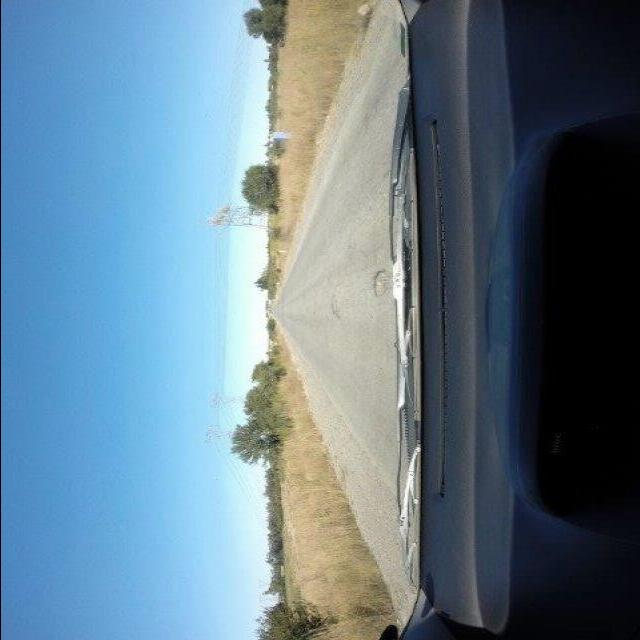lubang: (366, 267, 392, 300), (322, 291, 348, 317)
